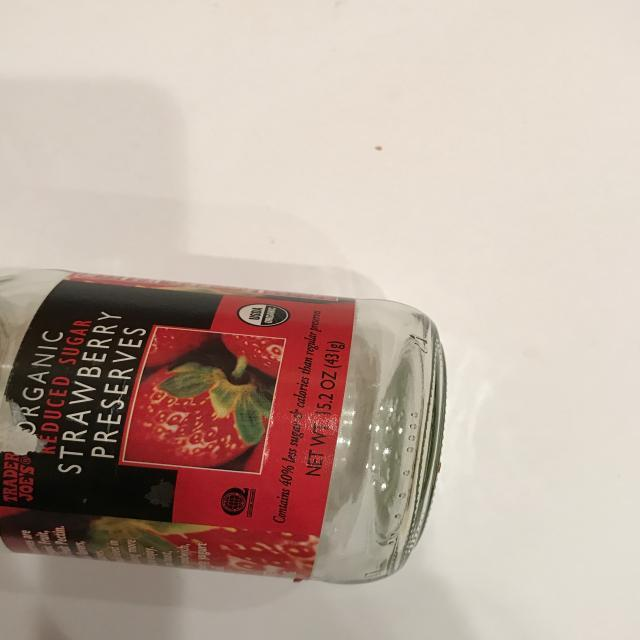glass: (2, 266, 448, 586)
